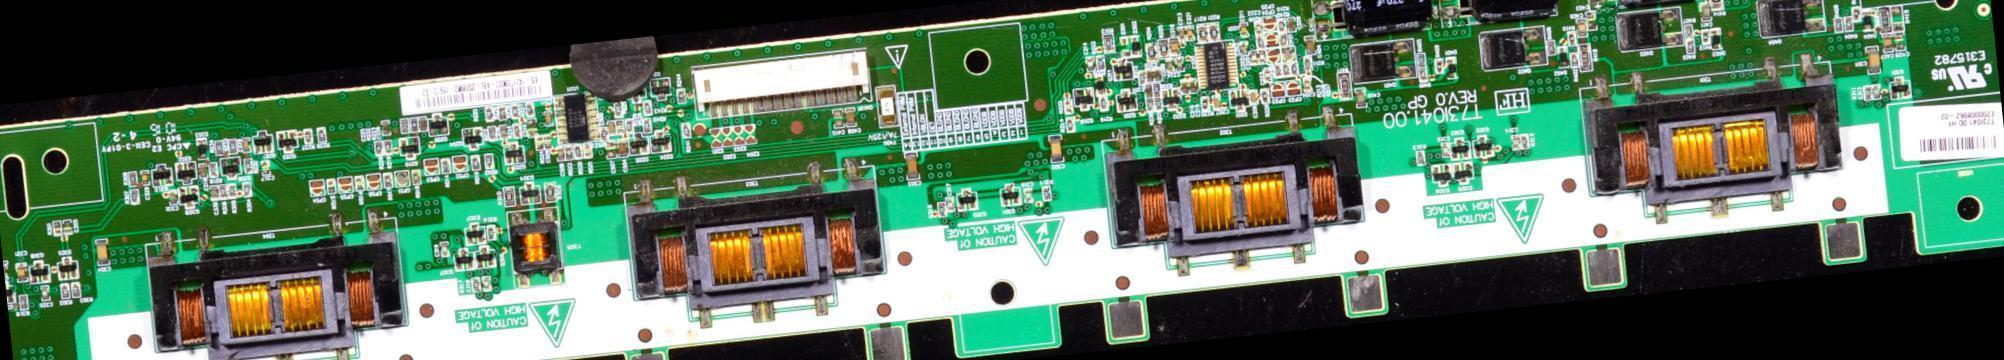Capacitor: (904, 151, 923, 185), (1048, 133, 1067, 163), (94, 235, 111, 269), (426, 155, 443, 184), (1865, 44, 1883, 73), (394, 167, 412, 194), (338, 173, 356, 198), (366, 170, 384, 195), (309, 177, 327, 203), (453, 152, 468, 178), (1285, 77, 1303, 97), (830, 107, 845, 131), (261, 158, 276, 181), (1883, 32, 1895, 57), (1575, 18, 1590, 38), (438, 240, 452, 261), (1084, 53, 1096, 75), (15, 262, 28, 283), (1355, 88, 1369, 107), (846, 106, 858, 129), (1701, 0, 1714, 20), (1271, 80, 1286, 97), (378, 117, 393, 135), (1305, 32, 1317, 54), (1896, 29, 1907, 51), (1439, 139, 1451, 161), (1023, 186, 1035, 205), (1169, 35, 1180, 57), (1189, 74, 1200, 94), (616, 138, 628, 158), (1239, 20, 1253, 37), (1239, 38, 1251, 56), (606, 118, 617, 136), (1512, 133, 1523, 152), (946, 195, 957, 214), (1265, 31, 1279, 46), (1268, 47, 1282, 63), (1263, 14, 1277, 29), (543, 132, 553, 152), (1211, 93, 1222, 113), (1588, 8, 1598, 31), (554, 143, 565, 161), (607, 137, 616, 160), (168, 187, 178, 206), (39, 284, 50, 302), (483, 273, 493, 292), (418, 115, 429, 132), (1248, 49, 1259, 65), (1179, 76, 1190, 93), (199, 161, 208, 181), (1304, 77, 1314, 95), (1249, 87, 1258, 107), (1287, 14, 1297, 32), (1261, 66, 1273, 82), (140, 167, 150, 186), (1164, 58, 1174, 74), (209, 183, 219, 201), (1873, 83, 1882, 101), (1186, 24, 1195, 42), (1174, 57, 1185, 72), (1254, 20, 1264, 35), (242, 136, 250, 152), (1178, 24, 1186, 42), (4, 265, 11, 282), (1259, 48, 1267, 64), (1146, 67, 1153, 82), (1144, 84, 1151, 97), (1155, 65, 1161, 78)
Connector: (689, 44, 873, 118)
IC: (552, 80, 602, 142), (1192, 40, 1240, 91)
Resistor: (1335, 66, 1354, 100), (1579, 43, 1594, 70), (1040, 180, 1056, 205), (1100, 31, 1117, 53), (1096, 85, 1111, 112), (502, 183, 518, 207), (1699, 26, 1713, 50), (543, 180, 557, 203), (1892, 5, 1906, 27), (484, 150, 497, 174), (471, 152, 483, 177), (1521, 132, 1534, 153), (1415, 145, 1428, 167), (1196, 22, 1209, 43), (1147, 40, 1158, 62), (1095, 52, 1107, 75), (1434, 56, 1446, 78), (1209, 19, 1221, 41), (1159, 37, 1170, 61), (1566, 27, 1578, 46), (128, 187, 141, 205), (1419, 66, 1431, 85), (486, 221, 498, 240), (936, 200, 948, 220), (1546, 37, 1558, 57), (485, 123, 497, 141), (1304, 56, 1316, 74), (1415, 49, 1428, 67), (63, 218, 75, 236), (59, 282, 72, 300), (442, 154, 452, 176), (384, 170, 394, 192), (471, 275, 482, 296), (303, 127, 315, 146), (680, 121, 692, 140), (397, 117, 410, 134), (413, 166, 423, 186), (1686, 37, 1696, 57), (524, 101, 536, 119), (317, 124, 329, 142), (213, 137, 225, 154), (126, 169, 138, 187), (242, 180, 253, 198), (1833, 15, 1844, 33), (1200, 94, 1212, 112), (51, 220, 63, 237), (677, 84, 687, 104), (356, 175, 366, 196), (483, 106, 494, 122), (612, 101, 624, 118), (1850, 4, 1862, 21), (18, 295, 30, 312), (373, 139, 383, 157), (565, 141, 574, 161), (584, 139, 593, 160), (328, 176, 337, 196), (1261, 87, 1271, 107), (72, 279, 82, 298), (498, 123, 508, 142), (383, 138, 393, 157), (229, 180, 238, 199), (1570, 50, 1579, 69), (1277, 15, 1287, 32), (1272, 64, 1283, 78), (410, 114, 419, 132), (219, 182, 228, 200), (227, 139, 238, 155), (1279, 32, 1289, 47), (624, 116, 634, 132), (643, 117, 653, 133), (1864, 84, 1874, 100), (644, 100, 653, 116), (513, 121, 522, 138), (536, 133, 544, 150), (1685, 20, 1694, 37), (575, 140, 583, 159), (1256, 34, 1267, 48), (1710, 0, 1726, 9), (1138, 70, 1147, 85), (1846, 16, 1855, 32), (511, 102, 520, 118), (1283, 61, 1291, 76), (1147, 97, 1154, 112), (1291, 62, 1299, 76), (1153, 83, 1161, 97), (1154, 97, 1162, 111)
Transistor: (251, 127, 277, 159), (276, 127, 302, 161), (505, 140, 530, 172), (1429, 162, 1456, 192), (178, 185, 203, 215), (399, 135, 423, 166), (55, 253, 81, 281), (956, 185, 981, 213), (648, 74, 673, 102), (997, 180, 1021, 209), (151, 159, 175, 188), (1072, 86, 1096, 113), (1111, 56, 1136, 82), (174, 159, 199, 185), (220, 155, 244, 181), (651, 126, 673, 155), (628, 130, 651, 158), (428, 111, 450, 141), (1117, 86, 1139, 115), (1230, 88, 1251, 117), (28, 258, 52, 283), (463, 218, 486, 245), (1889, 73, 1912, 100), (453, 245, 476, 272), (518, 179, 541, 204), (1163, 88, 1184, 116), (1456, 161, 1476, 189), (461, 125, 485, 150), (477, 242, 497, 269), (1473, 135, 1495, 160), (1451, 138, 1471, 159), (5, 281, 18, 310), (195, 136, 210, 159)
